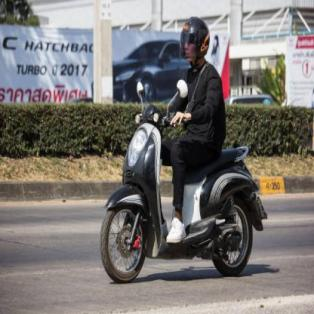Motocicleta: (99, 102, 263, 286)
